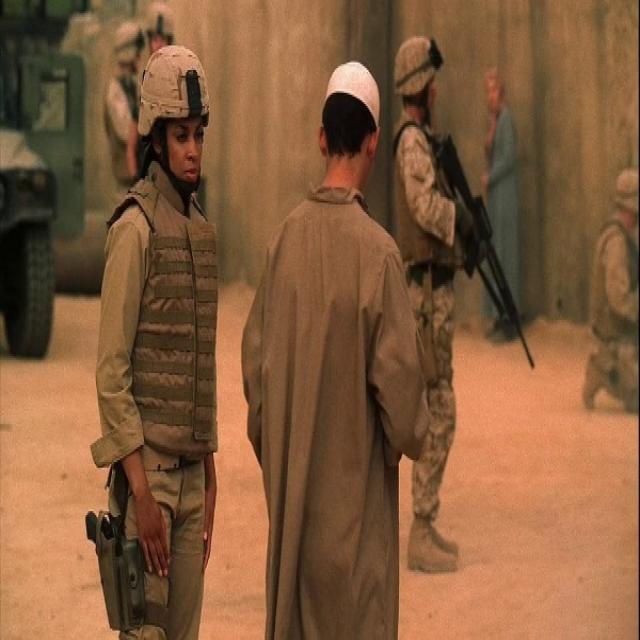rifle: (433, 129, 543, 380)
